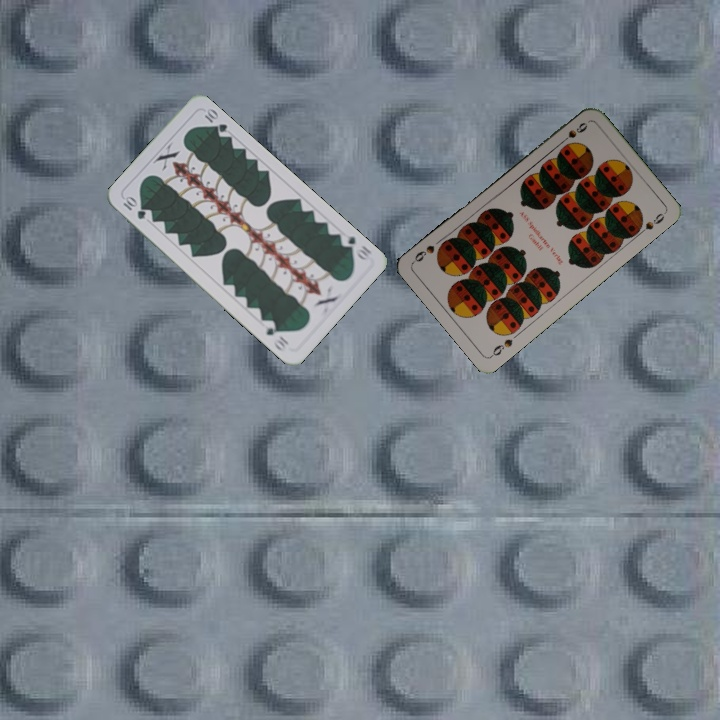G10: (336, 229, 374, 263), (119, 192, 148, 222)
S9: (556, 118, 590, 147), (487, 335, 515, 360)
